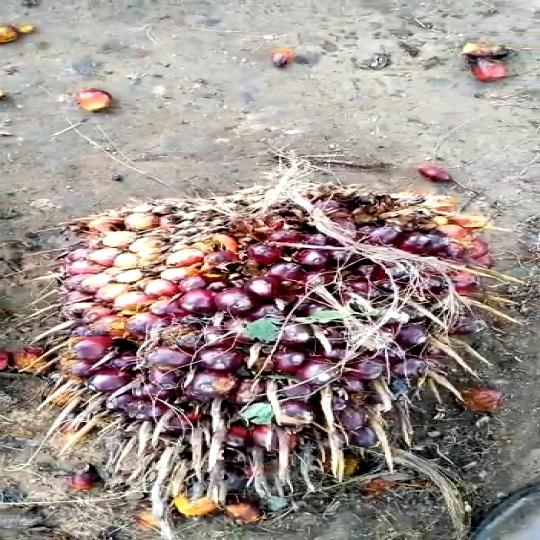masak: (19, 178, 540, 517)
